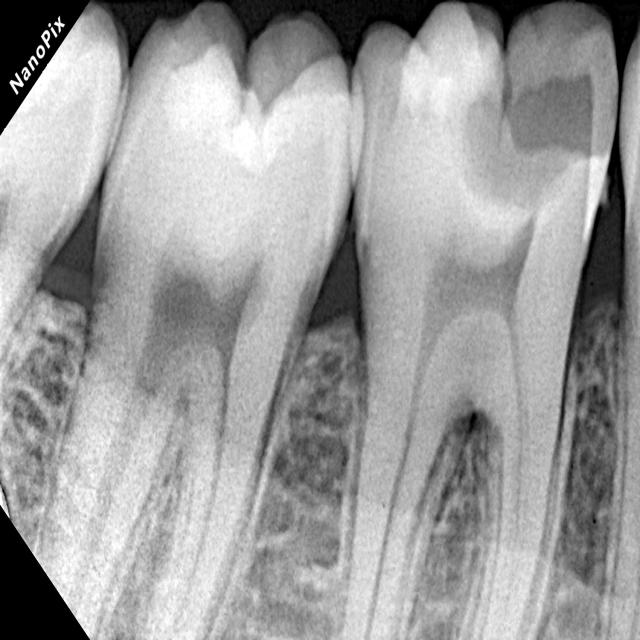karies: (476, 50, 598, 234)
